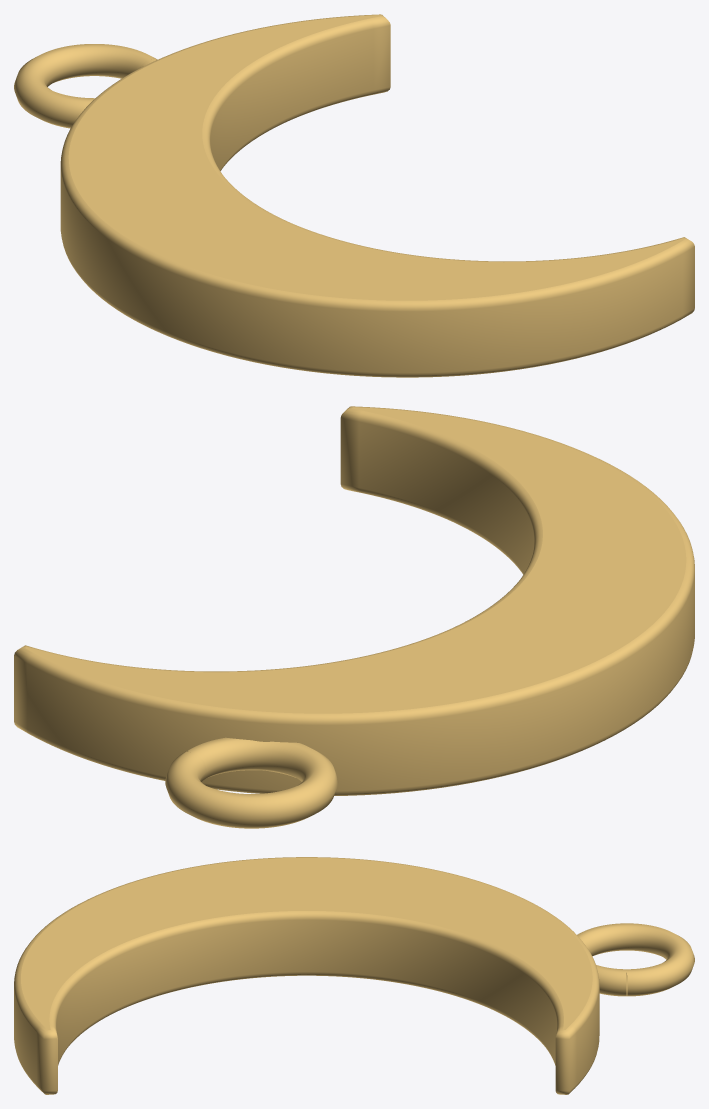
File: pendant-07-gold.glb
3 renders of one model, top to bottom at view 1: azimuth 30°, elevation 25°; view 2: azimuth 150°, elevation 25°; view 3: azimuth 270°, elevation 25°, orthographic. The views are drawn at different scales.
Parts seen in each view (by area): view 1: Cast relief.006, Wire detail.004; view 2: Cast relief.006, Wire detail.004; view 3: Cast relief.006, Wire detail.004.
Part boxes in pixels (bbox=[...]): Cast relief.006: bbox=[60, 14, 694, 377]; Wire detail.004: bbox=[14, 44, 157, 128]; Cast relief.006: bbox=[14, 406, 694, 795]; Wire detail.004: bbox=[165, 737, 338, 828]; Cast relief.006: bbox=[14, 857, 599, 1094]; Wire detail.004: bbox=[577, 923, 694, 996].
Bounding box in the file's own units: 0.00738 × 0.00124 × 0.0119.
